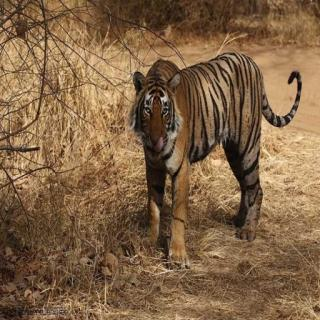Tiger: (130, 50, 304, 273)
